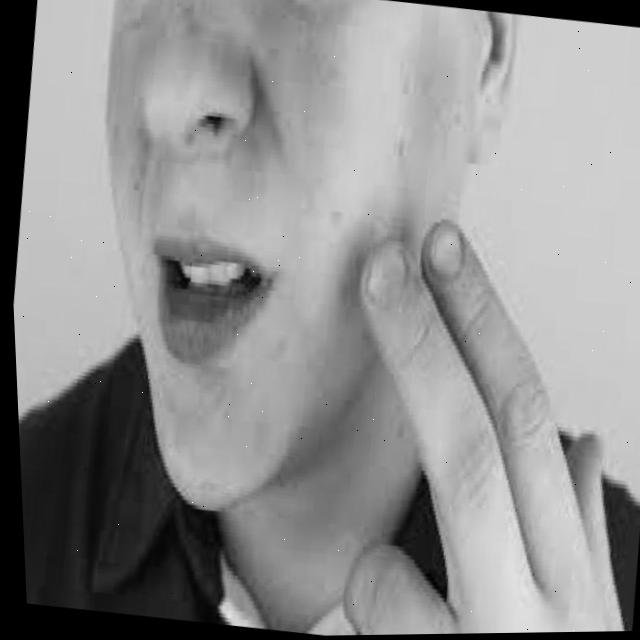Rosacea: (159, 331, 304, 479), (246, 8, 341, 156), (383, 28, 471, 167), (97, 44, 151, 122)
